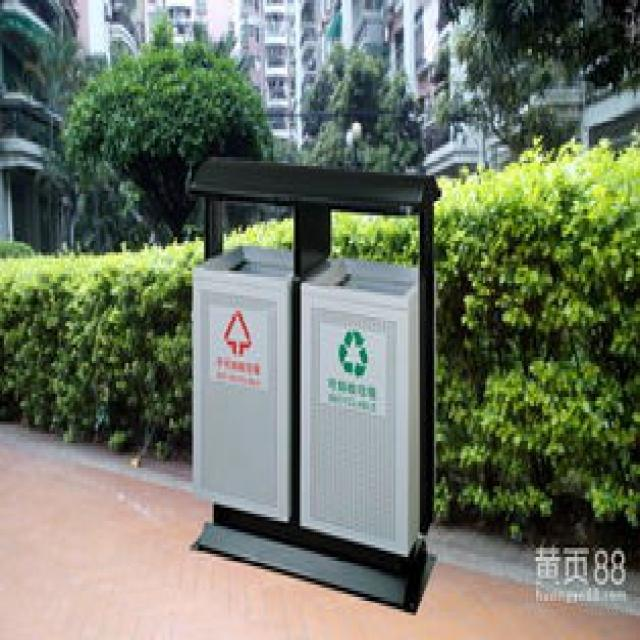garbage_bin: (186, 154, 440, 612)
